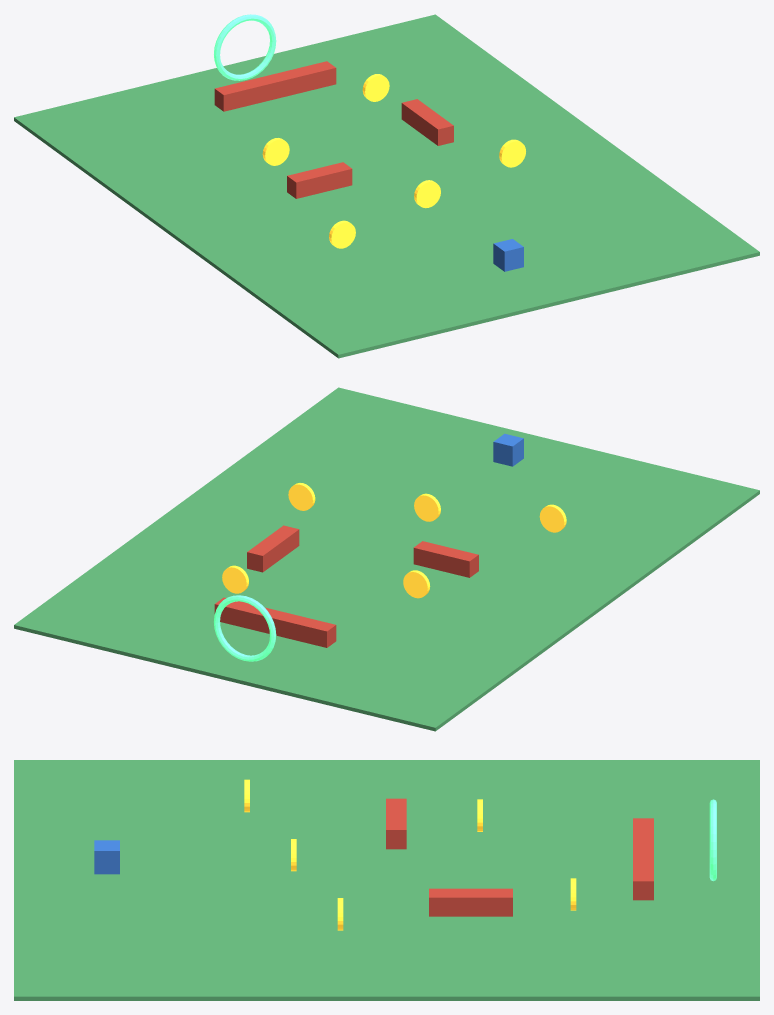
Rendered from coin_runner_assets.glb.
3 renders of one model, top to bottom at view 1: azimuth 30°, elevation 25°; view 2: azimuth 150°, elevation 25°; view 3: azimuth 270°, elevation 25°, orthographic. The views are drawn at different scales.
Visible parts, largest first — view 1: level_floor, obstacle_03, obstacle_01, obstacle_02, goal_ring, player_cube_start, coin_05, coin_01, coin_03, coin_04, coin_02; view 2: level_floor, obstacle_03, obstacle_01, obstacle_02, goal_ring, player_cube_start, coin_03, coin_05, coin_01, coin_04, coin_02; view 3: level_floor, obstacle_02, obstacle_03, obstacle_01, player_cube_start, goal_ring.
Part boxes in pixels (x1,y1,x2,y2): level_floor: (14,14,759,358); obstacle_03: (214,61,336,111); obstacle_01: (287,162,352,198); obstacle_02: (401,99,453,145); goal_ring: (214,14,276,80); player_cube_start: (493,239,523,271); coin_05: (362,74,389,101); coin_01: (329,220,355,248); coin_03: (499,139,525,167); coin_04: (262,138,289,165); coin_02: (414,180,440,208); level_floor: (14,387,759,731); obstacle_03: (214,597,336,647); obstacle_01: (413,541,478,577); obstacle_02: (247,525,299,572); goal_ring: (214,595,276,661); player_cube_start: (493,433,523,466); coin_03: (288,483,315,510); coin_05: (222,565,248,593); coin_01: (539,504,566,532); coin_04: (403,570,430,598); coin_02: (414,493,440,521); level_floor: (14,760,759,1000); obstacle_02: (429,888,512,916); obstacle_03: (633,818,653,900); obstacle_01: (386,798,406,849); player_cube_start: (94,840,119,874); goal_ring: (709,799,716,881).
Bounding box in the file's own units: 12 × 1.88 × 16.
